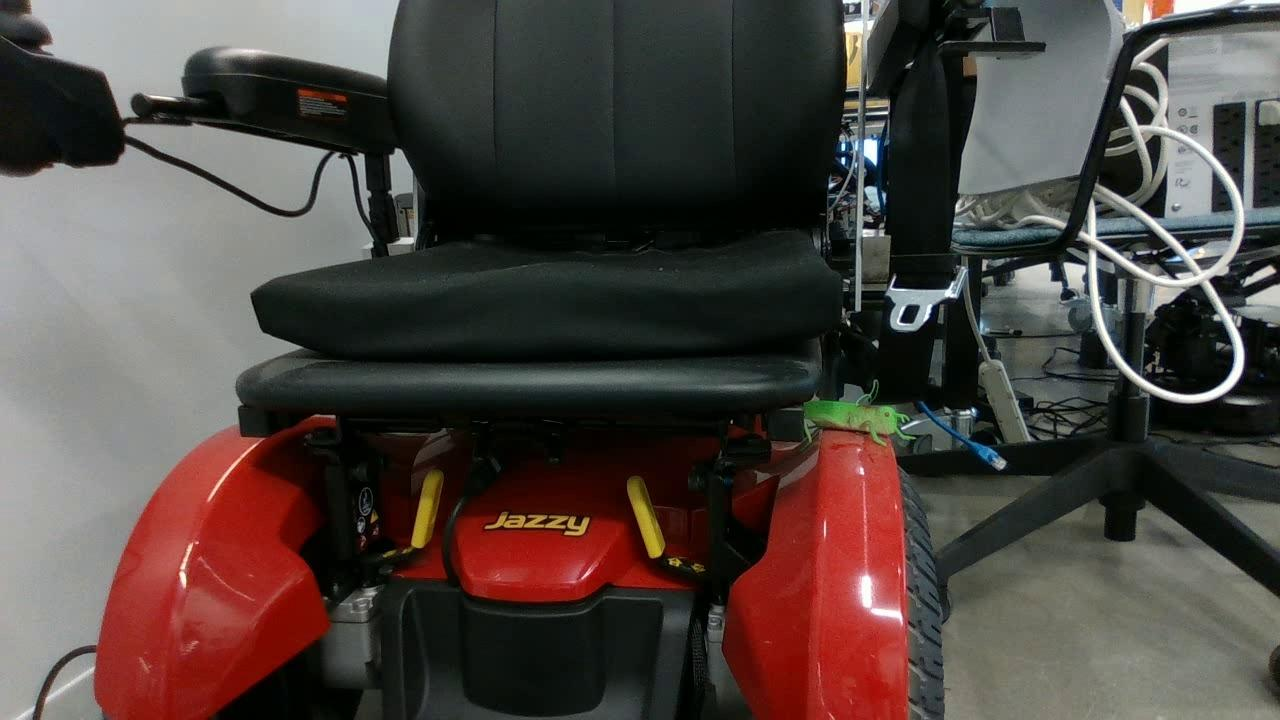grasshopper: (800, 391, 920, 455)
